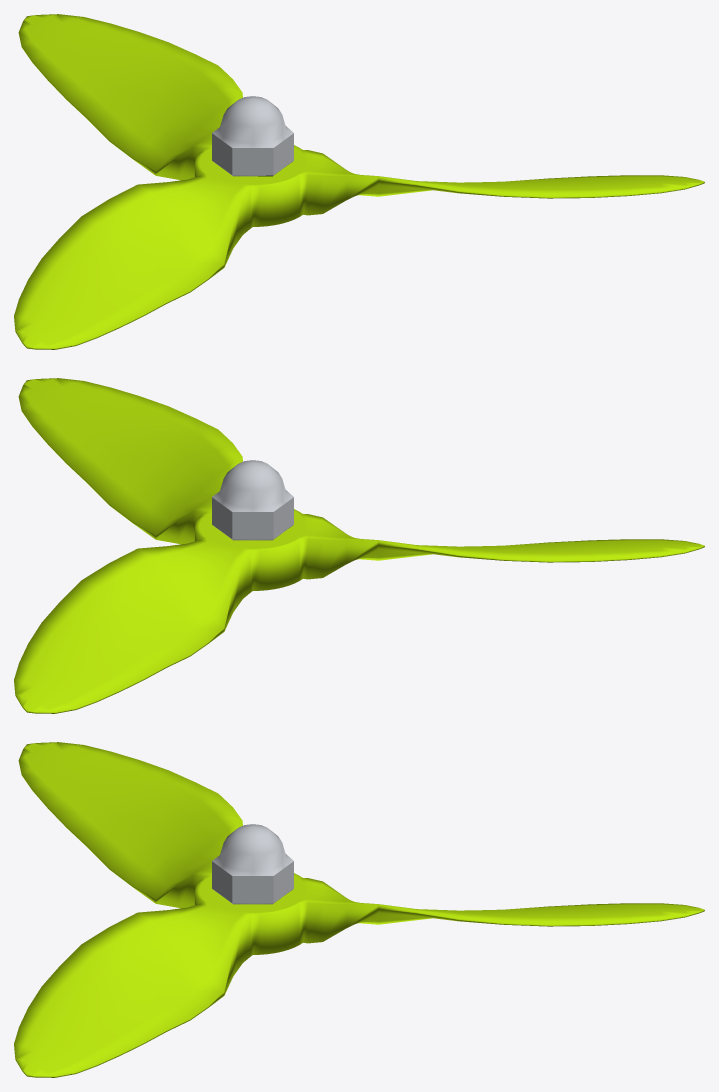
The model's file is Gemfan_4024.fbx.
3 views of the same model, one above another, from view 1: azimuth 30°, elevation 25°; view 2: azimuth 150°, elevation 25°; view 3: azimuth 270°, elevation 25° (orthographic).
Parts seen in each view (by area): view 1: R3_PROP_Gemfan_4024, R3_NUT_Gemfan_4024; view 2: R3_PROP_Gemfan_4024, R3_NUT_Gemfan_4024; view 3: R3_PROP_Gemfan_4024, R3_NUT_Gemfan_4024.
Boxes of the visible parts, bbox=[...] form: R3_PROP_Gemfan_4024: bbox=[14, 14, 704, 349]; R3_NUT_Gemfan_4024: bbox=[212, 96, 293, 176]; R3_PROP_Gemfan_4024: bbox=[14, 378, 704, 713]; R3_NUT_Gemfan_4024: bbox=[212, 460, 293, 540]; R3_PROP_Gemfan_4024: bbox=[14, 742, 704, 1077]; R3_NUT_Gemfan_4024: bbox=[212, 824, 293, 904].
Bounding box in the file's own units: 0.088 × 0.0142 × 0.0777.
Materials: 1 (1 with a texture image).
